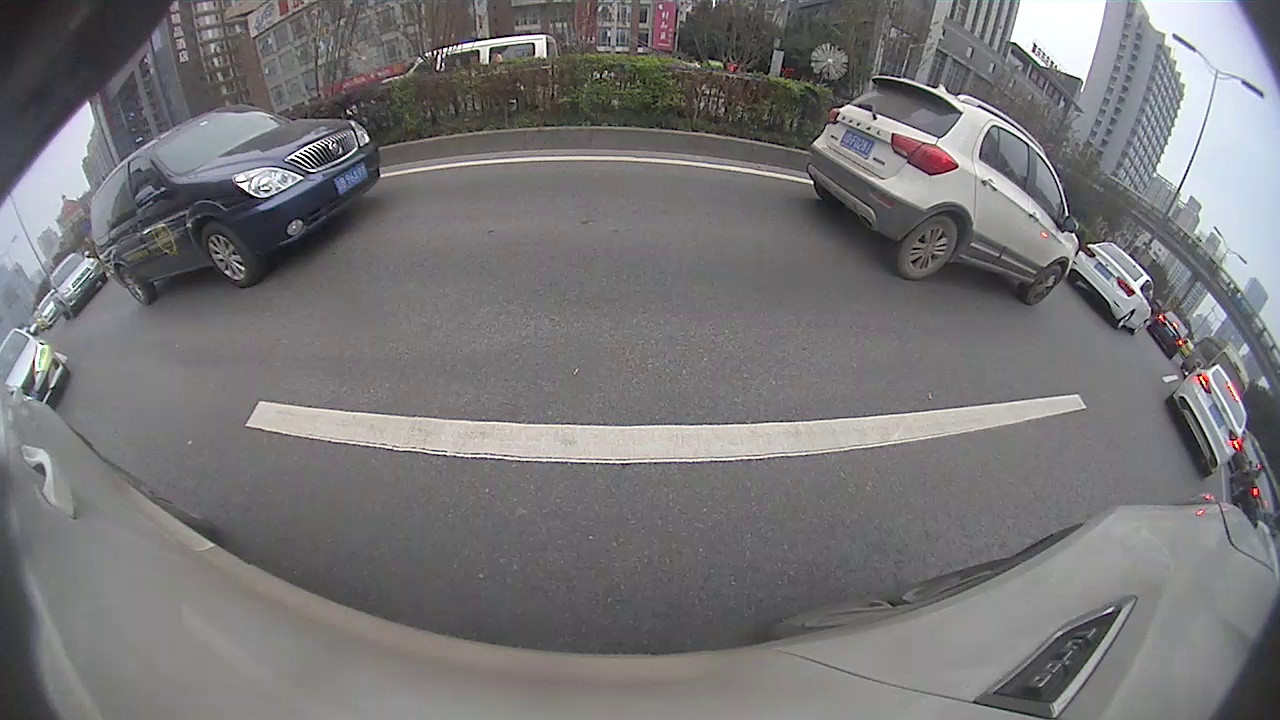car: (1030, 224, 1149, 294), (892, 179, 1004, 243), (700, 145, 803, 208), (420, 172, 491, 220)
front: (1038, 240, 1051, 256), (894, 201, 905, 216)
rear: (939, 211, 955, 231), (718, 178, 730, 204), (1098, 266, 1113, 284)
